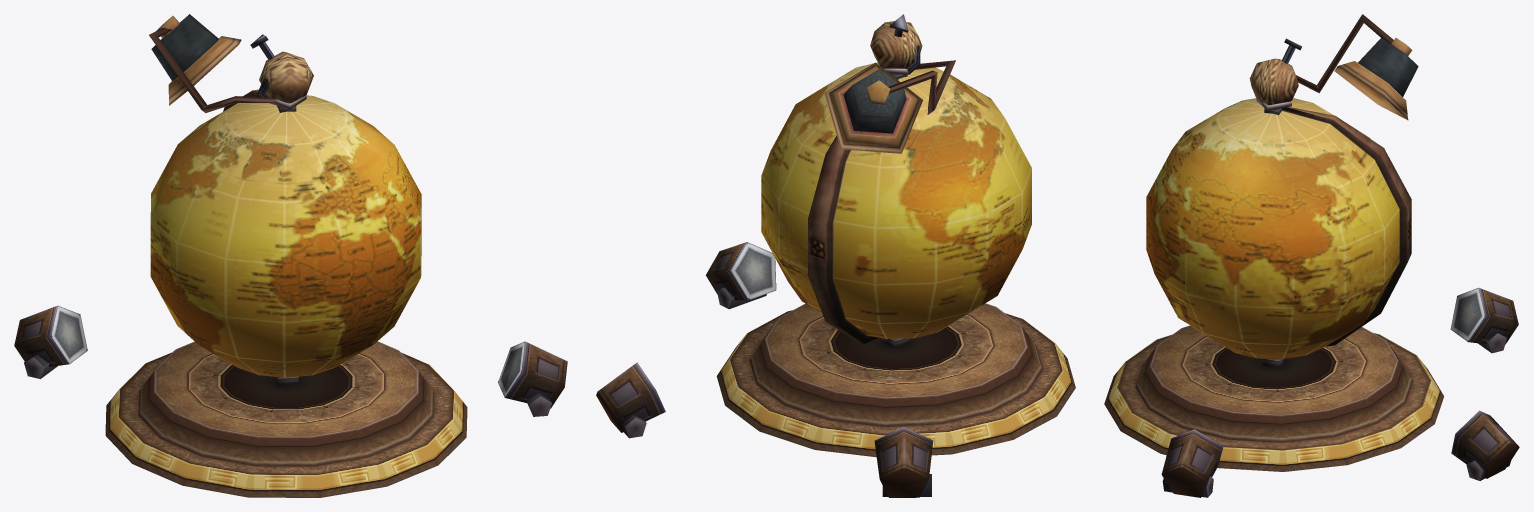
Rendered from a_SCglobe01.glb.
The picture shows the model from 3 angles, left to right: view 1: azimuth 30°, elevation 25°; view 2: azimuth 150°, elevation 25°; view 3: azimuth 270°, elevation 25°; orthographic projection. The views are drawn at different scales.
Visible parts, largest first — view 1: a_SCglobe01; view 2: a_SCglobe01; view 3: a_SCglobe01.
Part boxes in pixels (x1=…): a_SCglobe01: x1=14, y1=14, x2=567, y2=497; a_SCglobe01: x1=596, y1=14, x2=1075, y2=497; a_SCglobe01: x1=1104, y1=14, x2=1519, y2=497.
Size of the model in its own units: 2.66 by 2.5 by 2.65.
1 material, 1 textured.
